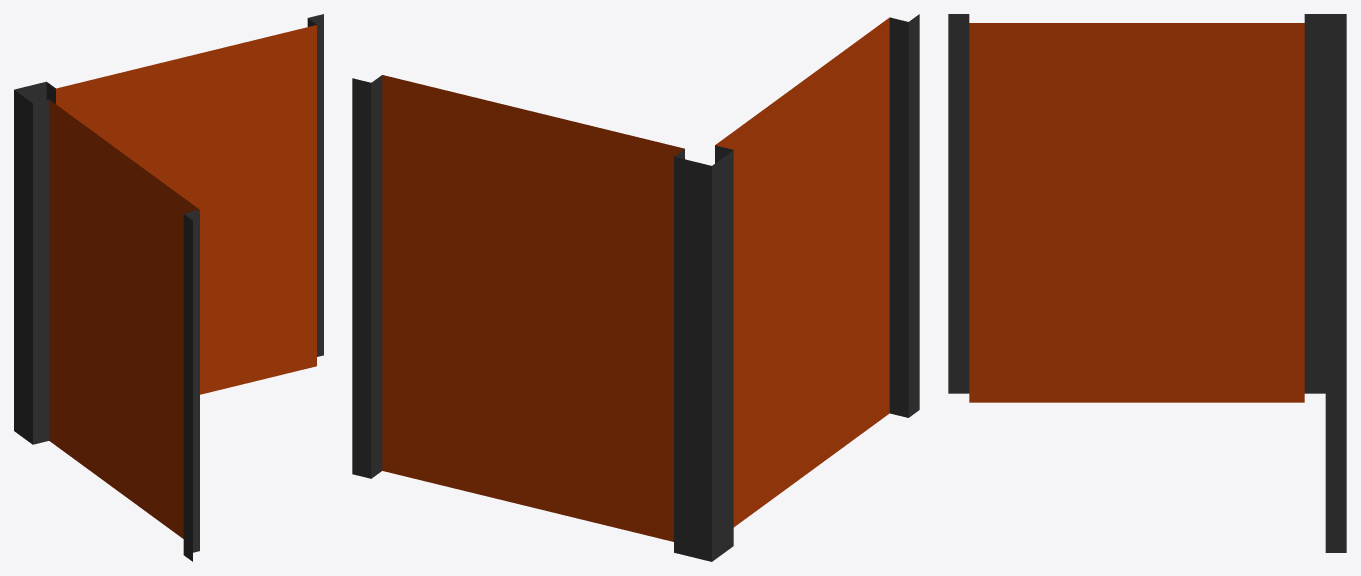
Rendered from Outer_Corner_Wall.obj.
3 views of the same model, side by side, from view 1: azimuth 30°, elevation 25°; view 2: azimuth 150°, elevation 25°; view 3: azimuth 270°, elevation 25° (orthographic). The views are drawn at different scales.
Visible parts, largest first — view 1: Outer_Corner_Wall; view 2: Outer_Corner_Wall; view 3: Outer_Corner_Wall.
Part boxes in pixels (x1,y1,x2,y2): Outer_Corner_Wall: (14, 14, 323, 561); Outer_Corner_Wall: (352, 14, 919, 561); Outer_Corner_Wall: (948, 14, 1346, 552).
Size of the model in its own units: 0.95 by 1 by 0.95.
